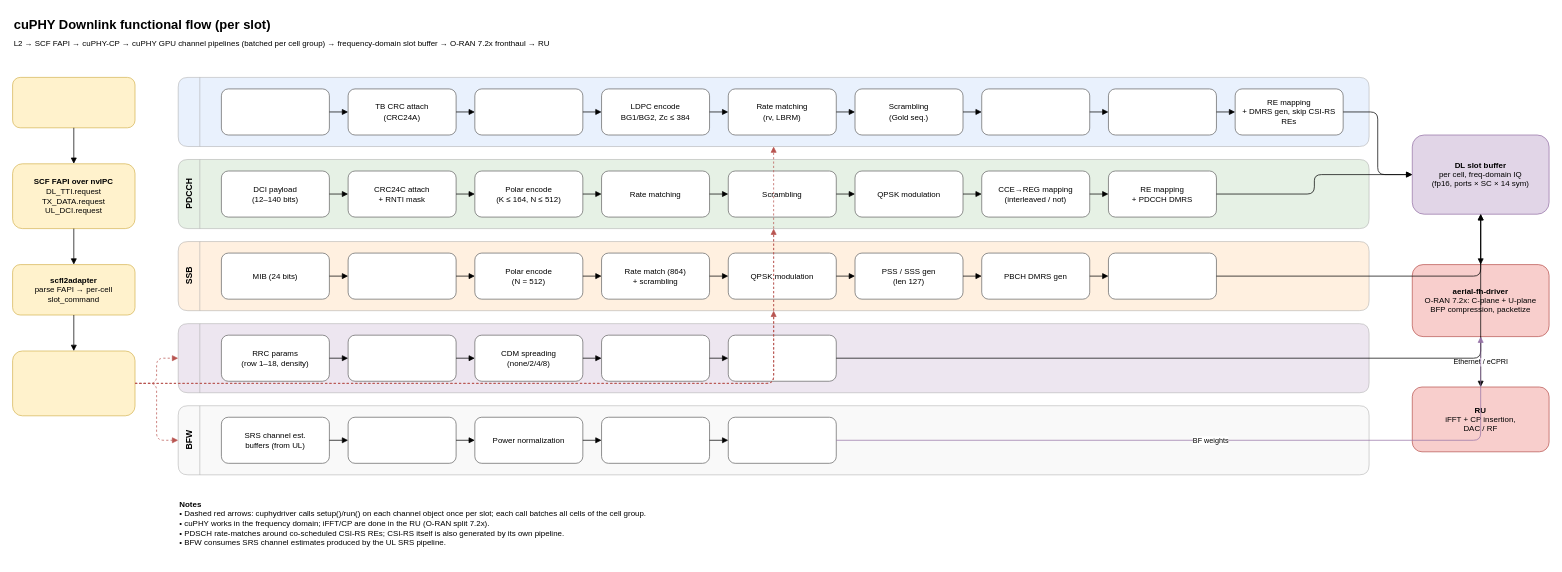
The diagram is 1562 pixels wide and 572 high, and some of its shapes have lost their labels. The box of each missing label's shape, as (x1, y1, x2, y2) in pixels:
Beamforming weight compute (RZF, λ): (347, 417, 456, 463)
BFP compression (9-bit, optional): (601, 417, 710, 463)
CB segmentation + CB CRC (CRC24B): (474, 88, 583, 135)
CSI-RS: (177, 323, 1369, 393)
cuphydriver per-slot tick; builds cell-group dyn params; setup() + run(): (12, 350, 135, 416)
L2 / MAC (scheduler; cuMAC optional): (12, 77, 135, 128)
Layer map + precoding (≤ 32 ports): (1108, 88, 1216, 135)
Modulation QPSK…256QAM: (981, 88, 1090, 135)
Optional precoding: (601, 334, 710, 381)
PBCH payload gen (32 bits) + CRC: (347, 252, 456, 299)
PDSCH: (177, 77, 1369, 147)
RE mapping (≤ 32 ports): (728, 334, 836, 381)
Sequence gen (Gold, scrambId): (347, 334, 456, 381)
SSB mapping 240 SC × 4 sym: (1108, 252, 1216, 299)
TB input (TX_DATA): (221, 88, 329, 135)
Weights to FH C-plane (ext. 11): (728, 417, 836, 463)
